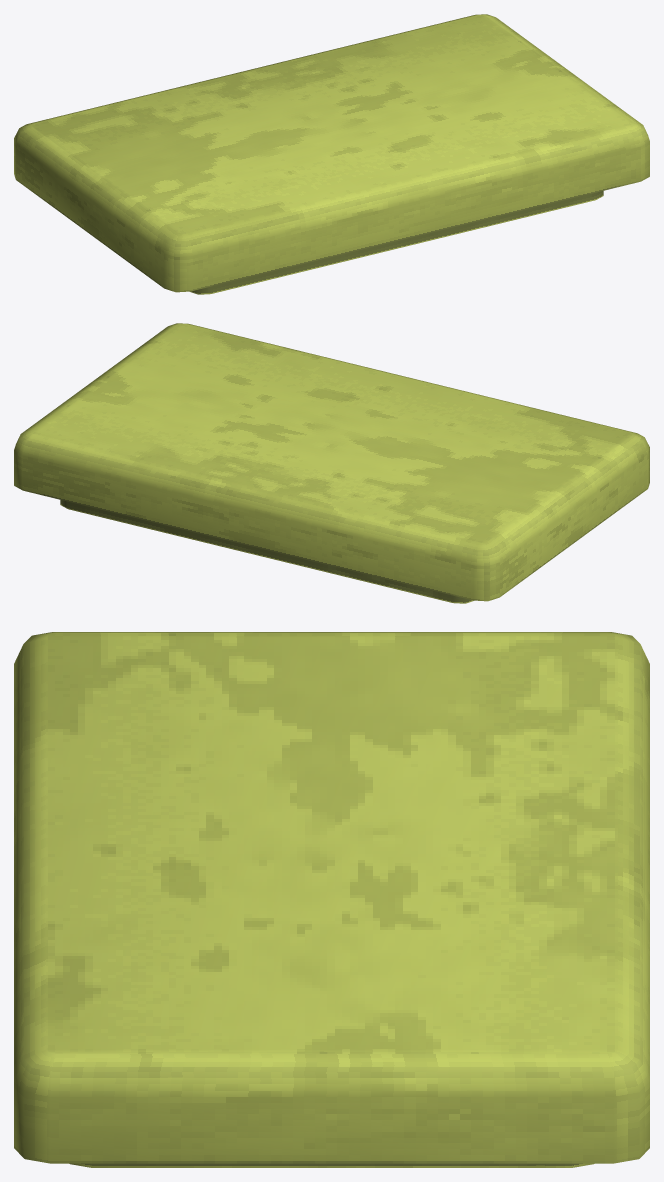
The model's file is IceBox_Cover.glb.
3 renders of one model, top to bottom at view 1: azimuth 30°, elevation 25°; view 2: azimuth 150°, elevation 25°; view 3: azimuth 270°, elevation 25°, orthographic. The views are drawn at different scales.
Visible parts, largest first — view 1: IceBox_Cover.001; view 2: IceBox_Cover.001; view 3: IceBox_Cover.001.
Part boxes in pixels (x1,y1,x2,y2): IceBox_Cover.001: [14, 14, 649, 294]; IceBox_Cover.001: [14, 323, 649, 603]; IceBox_Cover.001: [14, 632, 649, 1167].
Size of the model in its own units: 0.5 by 0.0692 by 0.3.
1 material, 1 textured.
